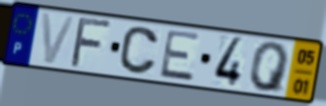4: (211, 34, 246, 90)
C: (117, 25, 161, 77)
E: (157, 28, 203, 84)
F: (67, 16, 115, 70)
Q: (248, 41, 292, 95)
V: (40, 11, 78, 66)
